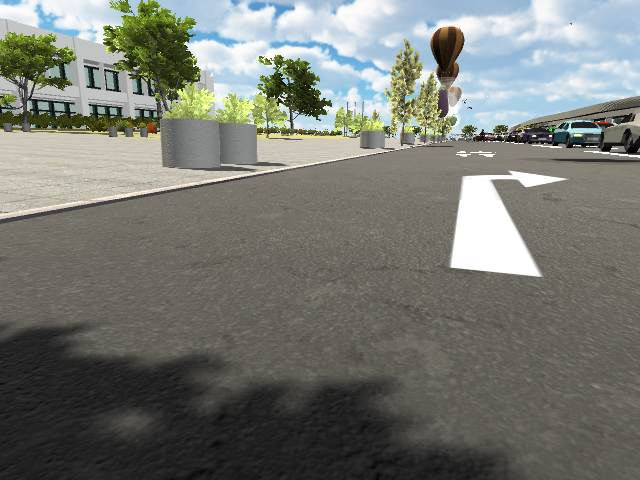ground_right: (459, 168, 570, 188)
